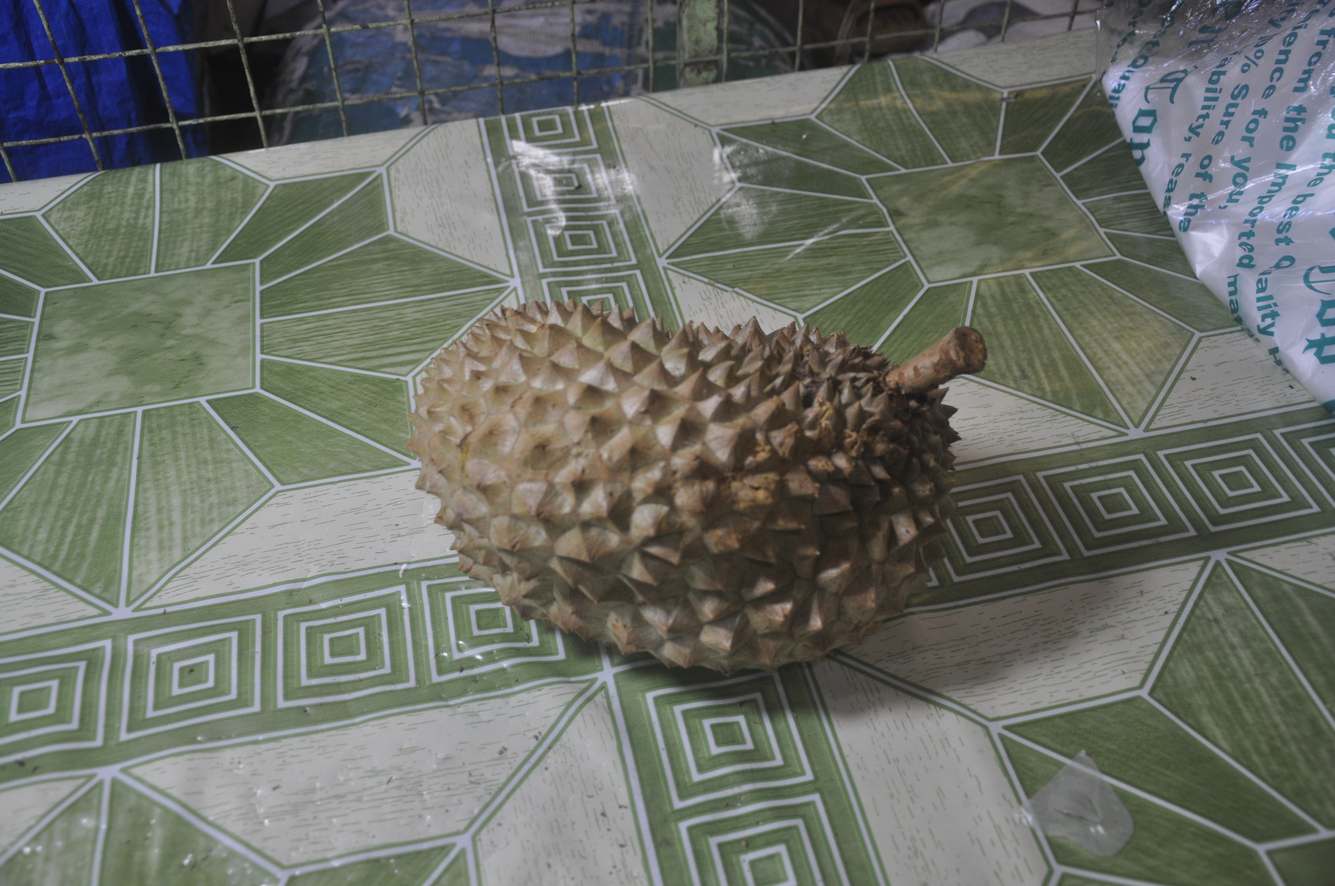mature: (408, 298, 985, 673)
